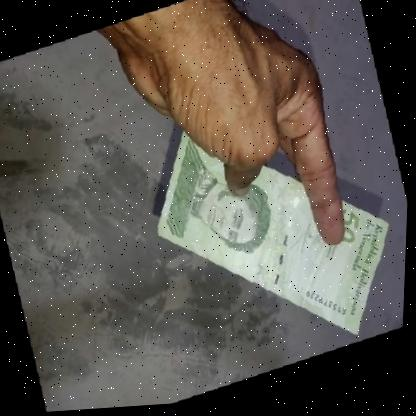fifty-front-vef: (135, 82, 413, 385)
